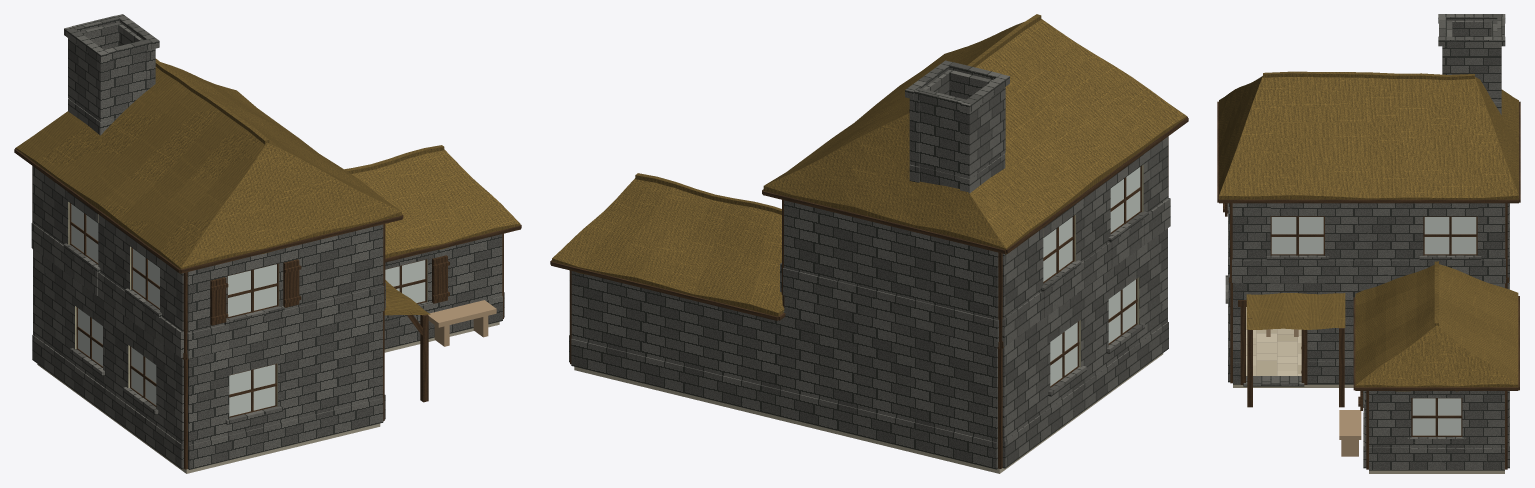
Rendered from kitchen-character.glb.
3 views of the same model, side by side, from view 1: azimuth 30°, elevation 25°; view 2: azimuth 150°, elevation 25°; view 3: azimuth 270°, elevation 25° (orthographic). The views are drawn at different scales.
Parts seen in each view (by area): view 1: Kitchen_Roof_0, Kitchen_Shell_0, Kitchen_GroundFront_0, Kitchen_UpperShell_0, Kitchen_UpperShell_1, Kitchen_Chimney_0, Kitchen_Shell_1, Kitchen_GroundFront_1, Kitchen_UpperShell_3, Kitchen_Glazing_0, Kitchen_Shell_2, Kitchen_Roof_1 (+6 smaller); view 2: Kitchen_Roof_0, Kitchen_Shell_1, Kitchen_Shell_0, Kitchen_UpperShell_0, Kitchen_UpperShell_1, Kitchen_Chimney_0, Kitchen_Roof_1, Kitchen_UpperShell_3, Kitchen_Glazing_0, Kitchen_Floor_0, Kitchen_Shell_2, Kitchen_UpperShell_2; view 3: Kitchen_Roof_0, Kitchen_UpperShell_0, Kitchen_UpperShell_1, Kitchen_Shell_0, Kitchen_Chimney_0, Kitchen_GroundFront_0, Kitchen_Shell_1, Kitchen_UpperShell_3, Kitchen_Roof_1, Kitchen_Shell_2, Kitchen_Floor_Flags, Kitchen_Glazing_0 (+6 smaller).
Boxes of the visible parts, x1,y1,x2,y2 form: Kitchen_Roof_0: (15, 58, 520, 315); Kitchen_Shell_0: (33, 234, 502, 444); Kitchen_GroundFront_0: (188, 311, 382, 445); Kitchen_UpperShell_0: (32, 166, 383, 333); Kitchen_UpperShell_1: (31, 222, 385, 358); Kitchen_Chimney_0: (64, 14, 159, 135); Kitchen_Shell_1: (32, 292, 504, 468); Kitchen_GroundFront_1: (188, 395, 385, 469); Kitchen_UpperShell_3: (71, 204, 276, 316); Kitchen_Glazing_0: (78, 260, 425, 405); Kitchen_Shell_2: (76, 233, 503, 469); Kitchen_Roof_1: (14, 148, 521, 273); Kitchen_Roof_0: (552, 14, 1186, 316); Kitchen_Shell_1: (569, 295, 1168, 469); Kitchen_Shell_0: (569, 228, 1167, 440); Kitchen_UpperShell_0: (784, 136, 1168, 320); Kitchen_UpperShell_1: (780, 198, 1170, 347); Kitchen_Chimney_0: (905, 60, 1009, 193); Kitchen_Roof_1: (550, 116, 1188, 320); Kitchen_UpperShell_3: (1043, 167, 1140, 281); Kitchen_Glazing_0: (1050, 279, 1135, 385); Kitchen_Floor_0: (574, 353, 1163, 473); Kitchen_Shell_2: (570, 270, 1137, 468); Kitchen_UpperShell_2: (781, 136, 1168, 348); Kitchen_Roof_0: (1219, 71, 1518, 391); Kitchen_UpperShell_0: (1228, 203, 1509, 260); Kitchen_UpperShell_1: (1227, 203, 1509, 283); Kitchen_Shell_0: (1364, 283, 1509, 447); Kitchen_Chimney_0: (1438, 14, 1505, 114); Kitchen_GroundFront_0: (1228, 281, 1368, 361); Kitchen_Shell_1: (1363, 281, 1509, 470); Kitchen_UpperShell_3: (1271, 217, 1476, 254); Kitchen_Roof_1: (1217, 101, 1520, 390); Kitchen_Shell_2: (1230, 282, 1507, 469); Kitchen_Floor_Flags: (1246, 307, 1301, 375); Kitchen_Glazing_0: (1412, 398, 1461, 435).
Size of the model in its own units: 12.92 by 9.75 by 8.94.
Materials: 19 (4 with a texture image).
